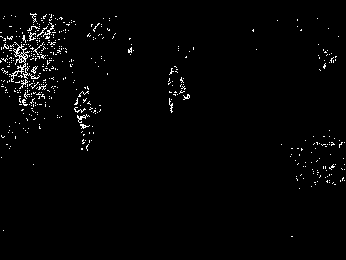person: (72, 87, 100, 152), (165, 64, 191, 115)
